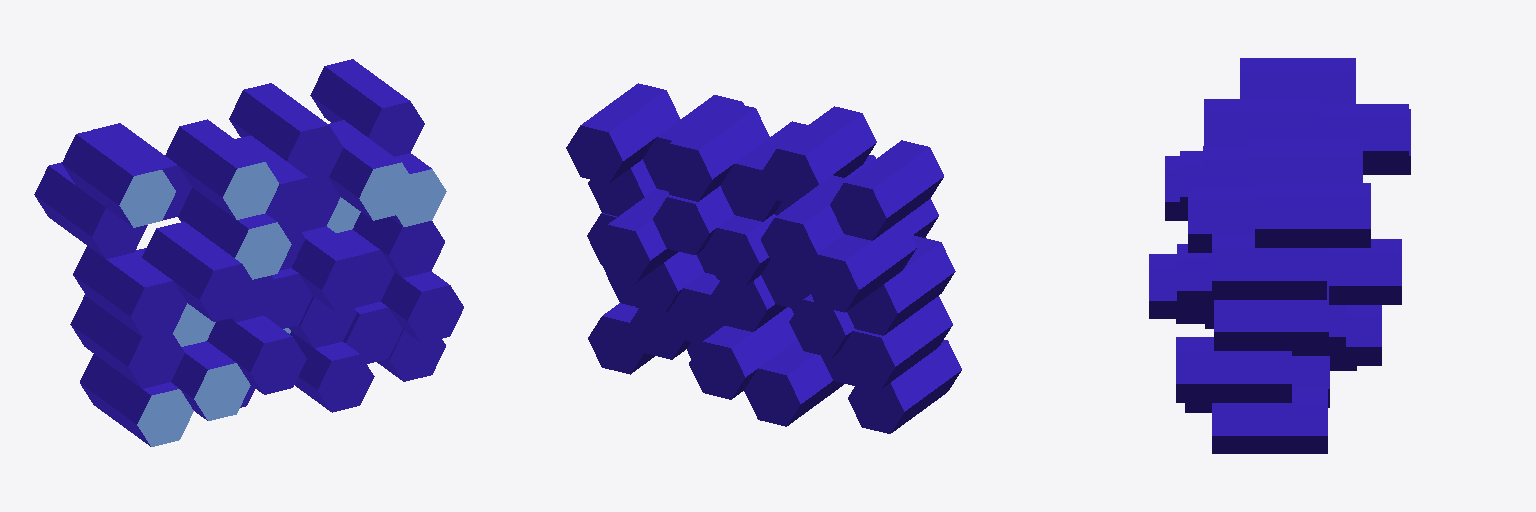
File: wall.obj
3 renders of one model, left to right at view 1: azimuth 30°, elevation 25°; view 2: azimuth 150°, elevation 25°; view 3: azimuth 270°, elevation 25°, orthographic.
Parts seen in each view (by area): view 1: Object.5, Object.14, Object.8, Object.3, Object.32, Object.23, Object.1, Object.27, Object.2, Object.11, Object.4, Object.13 (+17 smaller); view 2: Object.5, Object.32, Object.23, Object.14, Object.4, Object.2, Object.15, Object.1, Object.3, Object.10, Object.9, Object.26 (+13 smaller); view 3: Object.32, Object.31, Object.29, Object.28, Object.30, Object.14, Object.5, Object.23, Object.9, Object.26, Object.27, Object.15 (+7 smaller).
Part boxes in pixels (x1,y1,x2,y2): Object.5: (62,127,175,227); Object.14: (165,119,278,219); Object.8: (142,222,255,321); Object.3: (73,246,186,338); Object.32: (310,59,424,156); Object.23: (229,83,343,180); Object.1: (80,354,193,446); Object.27: (328,120,415,220); Object.2: (70,295,184,388); Object.11: (207,316,306,394); Object.4: (34,162,147,258); Object.13: (178,188,291,279); Object.5: (830,140,943,240); Object.32: (566,83,680,183); Object.23: (656,101,769,201); Object.14: (763,106,876,203); Object.4: (802,219,916,312); Object.2: (839,296,952,388); Object.15: (689,307,797,399); Object.1: (848,340,961,433); Object.3: (847,235,955,335); Object.10: (744,340,843,426); Object.9: (761,175,847,275); Object.26: (594,189,677,282); Object.32: (1255,183,1370,247); Object.31: (1212,234,1326,299); Object.29: (1176,337,1291,402); Object.28: (1212,389,1327,453); Object.30: (1214,286,1328,350); Object.14: (1204,99,1319,145); Object.5: (1240,58,1355,103); Object.23: (1247,141,1362,187); Object.9: (1320,104,1408,169); Object.26: (1327,239,1401,304); Object.27: (1188,188,1254,252); Object.15: (1330,305,1381,365).
Bounding box in the file's own units: 4.8 × 3.78 × 3.47.